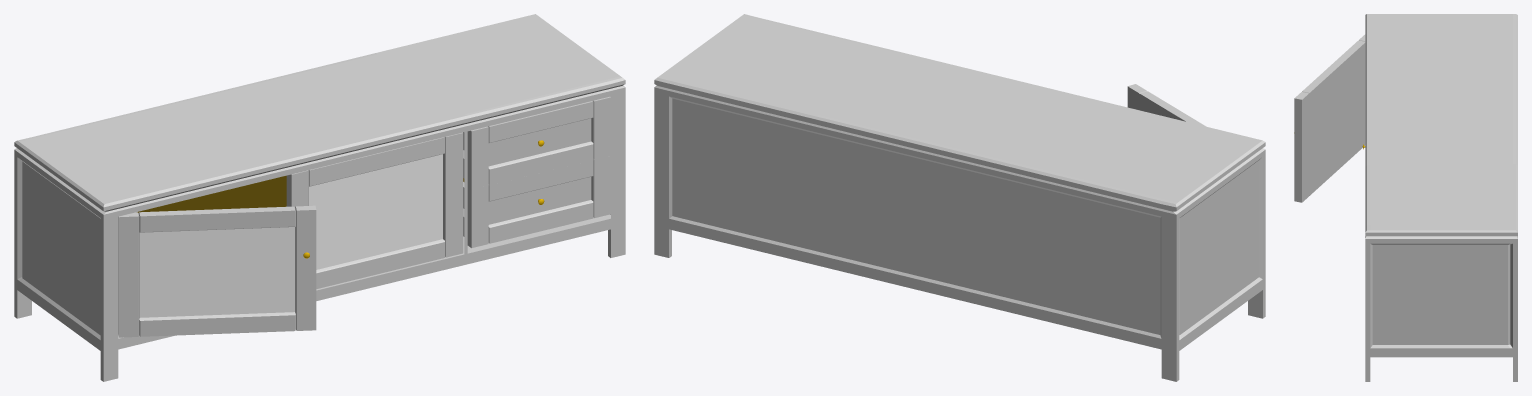
3 views of the same model, side by side, from view 1: azimuth 30°, elevation 25°; view 2: azimuth 150°, elevation 25°; view 3: azimuth 270°, elevation 25° (orthographic). The views are drawn at different scales.
Parts seen in each view (by area): view 1: rack, doorLeft, doorRight, drawerUp, drawerDown, shelf; view 2: rack, doorLeft; view 3: rack, doorLeft.
Boxes of the visible parts, <box> form: rack: <box>14,14,625,381</box>; doorLeft: <box>118,205,316,337</box>; doorRight: <box>286,132,463,288</box>; drawerUp: <box>463,96,610,189</box>; drawerDown: <box>463,156,610,248</box>; shelf: <box>137,175,286,212</box>; rack: <box>654,14,1265,381</box>; doorLeft: <box>1127,84,1205,126</box>; rack: <box>1365,14,1517,381</box>; doorLeft: <box>1294,34,1365,202</box>.
Size of the model in its own units: 15.2 by 4.91 by 6.6.
